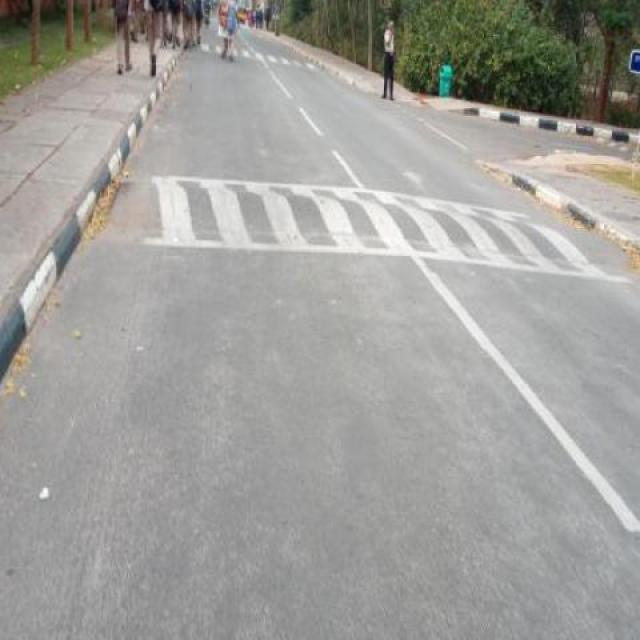Speed Bump: (107, 174, 606, 284)
